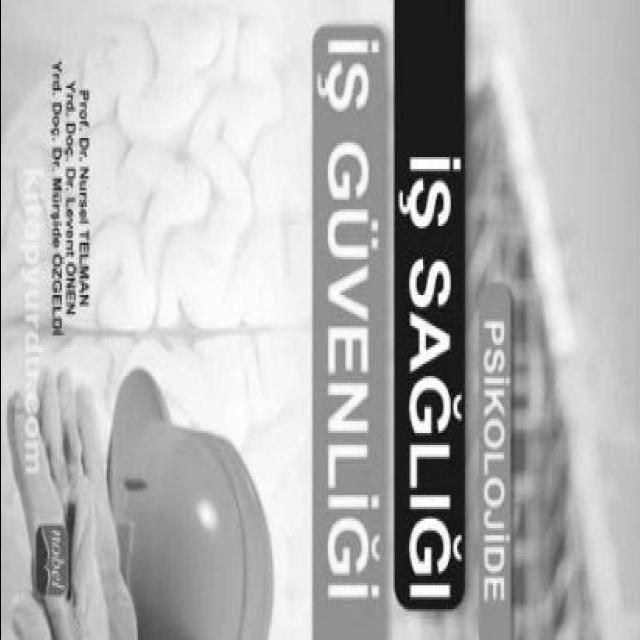safety_helmet: (106, 371, 273, 640)
